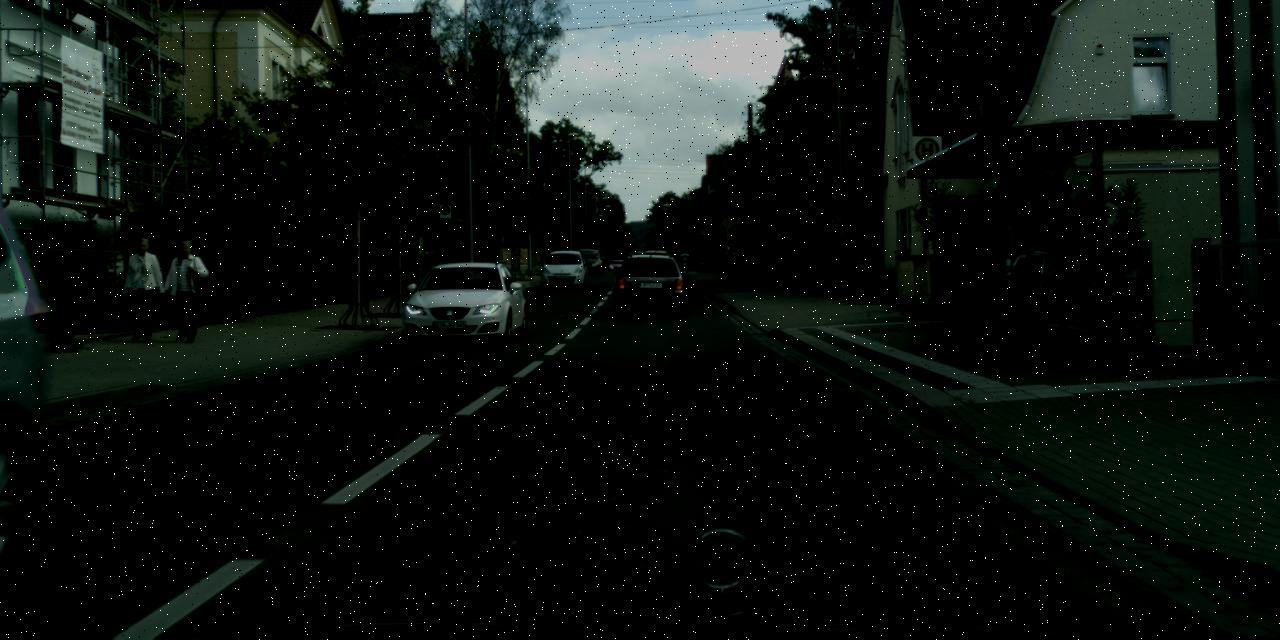ped: (121, 236, 163, 342), (164, 239, 205, 342)
